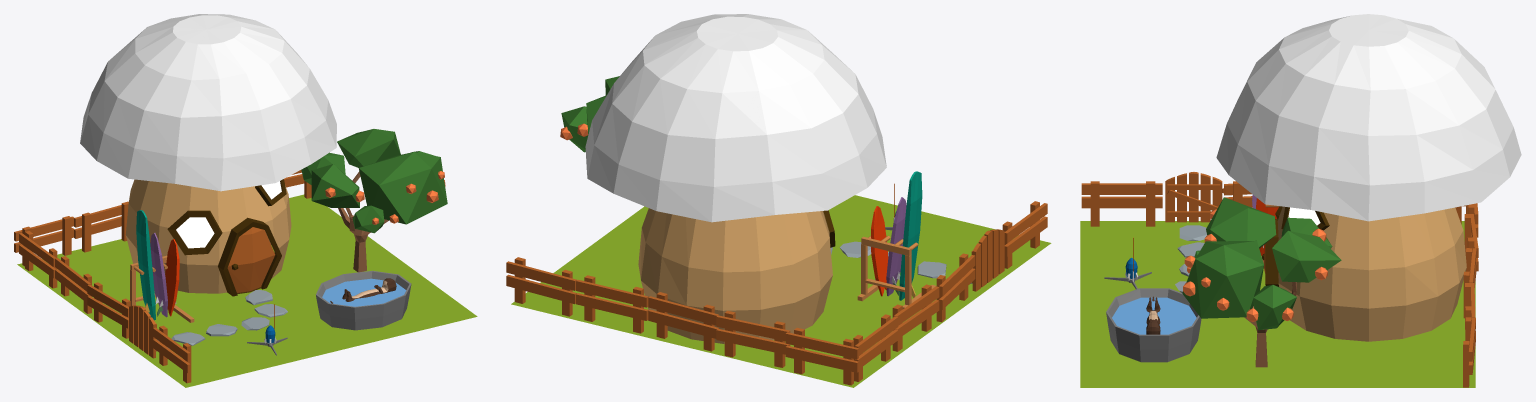
Rendered from summer.glb.
3 renders of one model, left to right at view 1: azimuth 30°, elevation 25°; view 2: azimuth 150°, elevation 25°; view 3: azimuth 270°, elevation 25°, orthographic. The views are drawn at different scales.
Parts seen in each view (by area): view 1: cap, grass, stem, leaves.001, container, leaves.006, leaves.003, fence.007, water, longboard, fence.006, fence.003 (+11 smaller); view 2: cap, grass, stem, fence.006, fence.009, fence.007, fence.001, fence.008, rack, fence.002, fence.004, longboard (+6 smaller); view 3: cap, grass, stem, leaves.001, container, leaves.003, fence.002, door, leaves.006, water, leaves.002, fence.001 (+7 smaller).
Part boxes in pixels (x1,y1,x2,y2): cap: [80, 14, 336, 191]; grass: [17, 194, 477, 387]; stem: [125, 179, 291, 296]; leaves.001: [358, 152, 447, 224]; container: [316, 270, 411, 330]; leaves.006: [311, 164, 364, 207]; leaves.003: [337, 129, 400, 167]; fence.007: [74, 201, 128, 252]; water: [322, 278, 406, 306]; longboard: [136, 210, 155, 320]; fence.006: [14, 216, 74, 266]; fence.003: [87, 282, 130, 338]; cap: [585, 14, 886, 222]; grass: [511, 195, 1051, 387]; stem: [638, 208, 835, 343]; fence.006: [785, 327, 858, 385]; fence.009: [576, 275, 648, 333]; fence.007: [716, 310, 790, 367]; fence.001: [506, 257, 576, 316]; fence.008: [648, 292, 718, 351]; rack: [857, 235, 935, 308]; fence.002: [1002, 201, 1047, 268]; fence.004: [892, 284, 939, 351]; longboard: [899, 171, 922, 300]; cap: [1216, 14, 1521, 221]; grass: [1080, 221, 1475, 387]; stem: [1262, 206, 1466, 341]; leaves.001: [1182, 240, 1263, 318]; container: [1106, 288, 1201, 362]; leaves.003: [1272, 230, 1341, 282]; fence.002: [1081, 181, 1162, 226]; door: [1165, 172, 1225, 222]; leaves.006: [1204, 197, 1276, 248]; water: [1112, 297, 1196, 334]; leaves.002: [1246, 284, 1296, 330]; fence.001: [1463, 317, 1475, 387].
Bounding box in the file's own units: 4.63 × 3.06 × 4.46.
